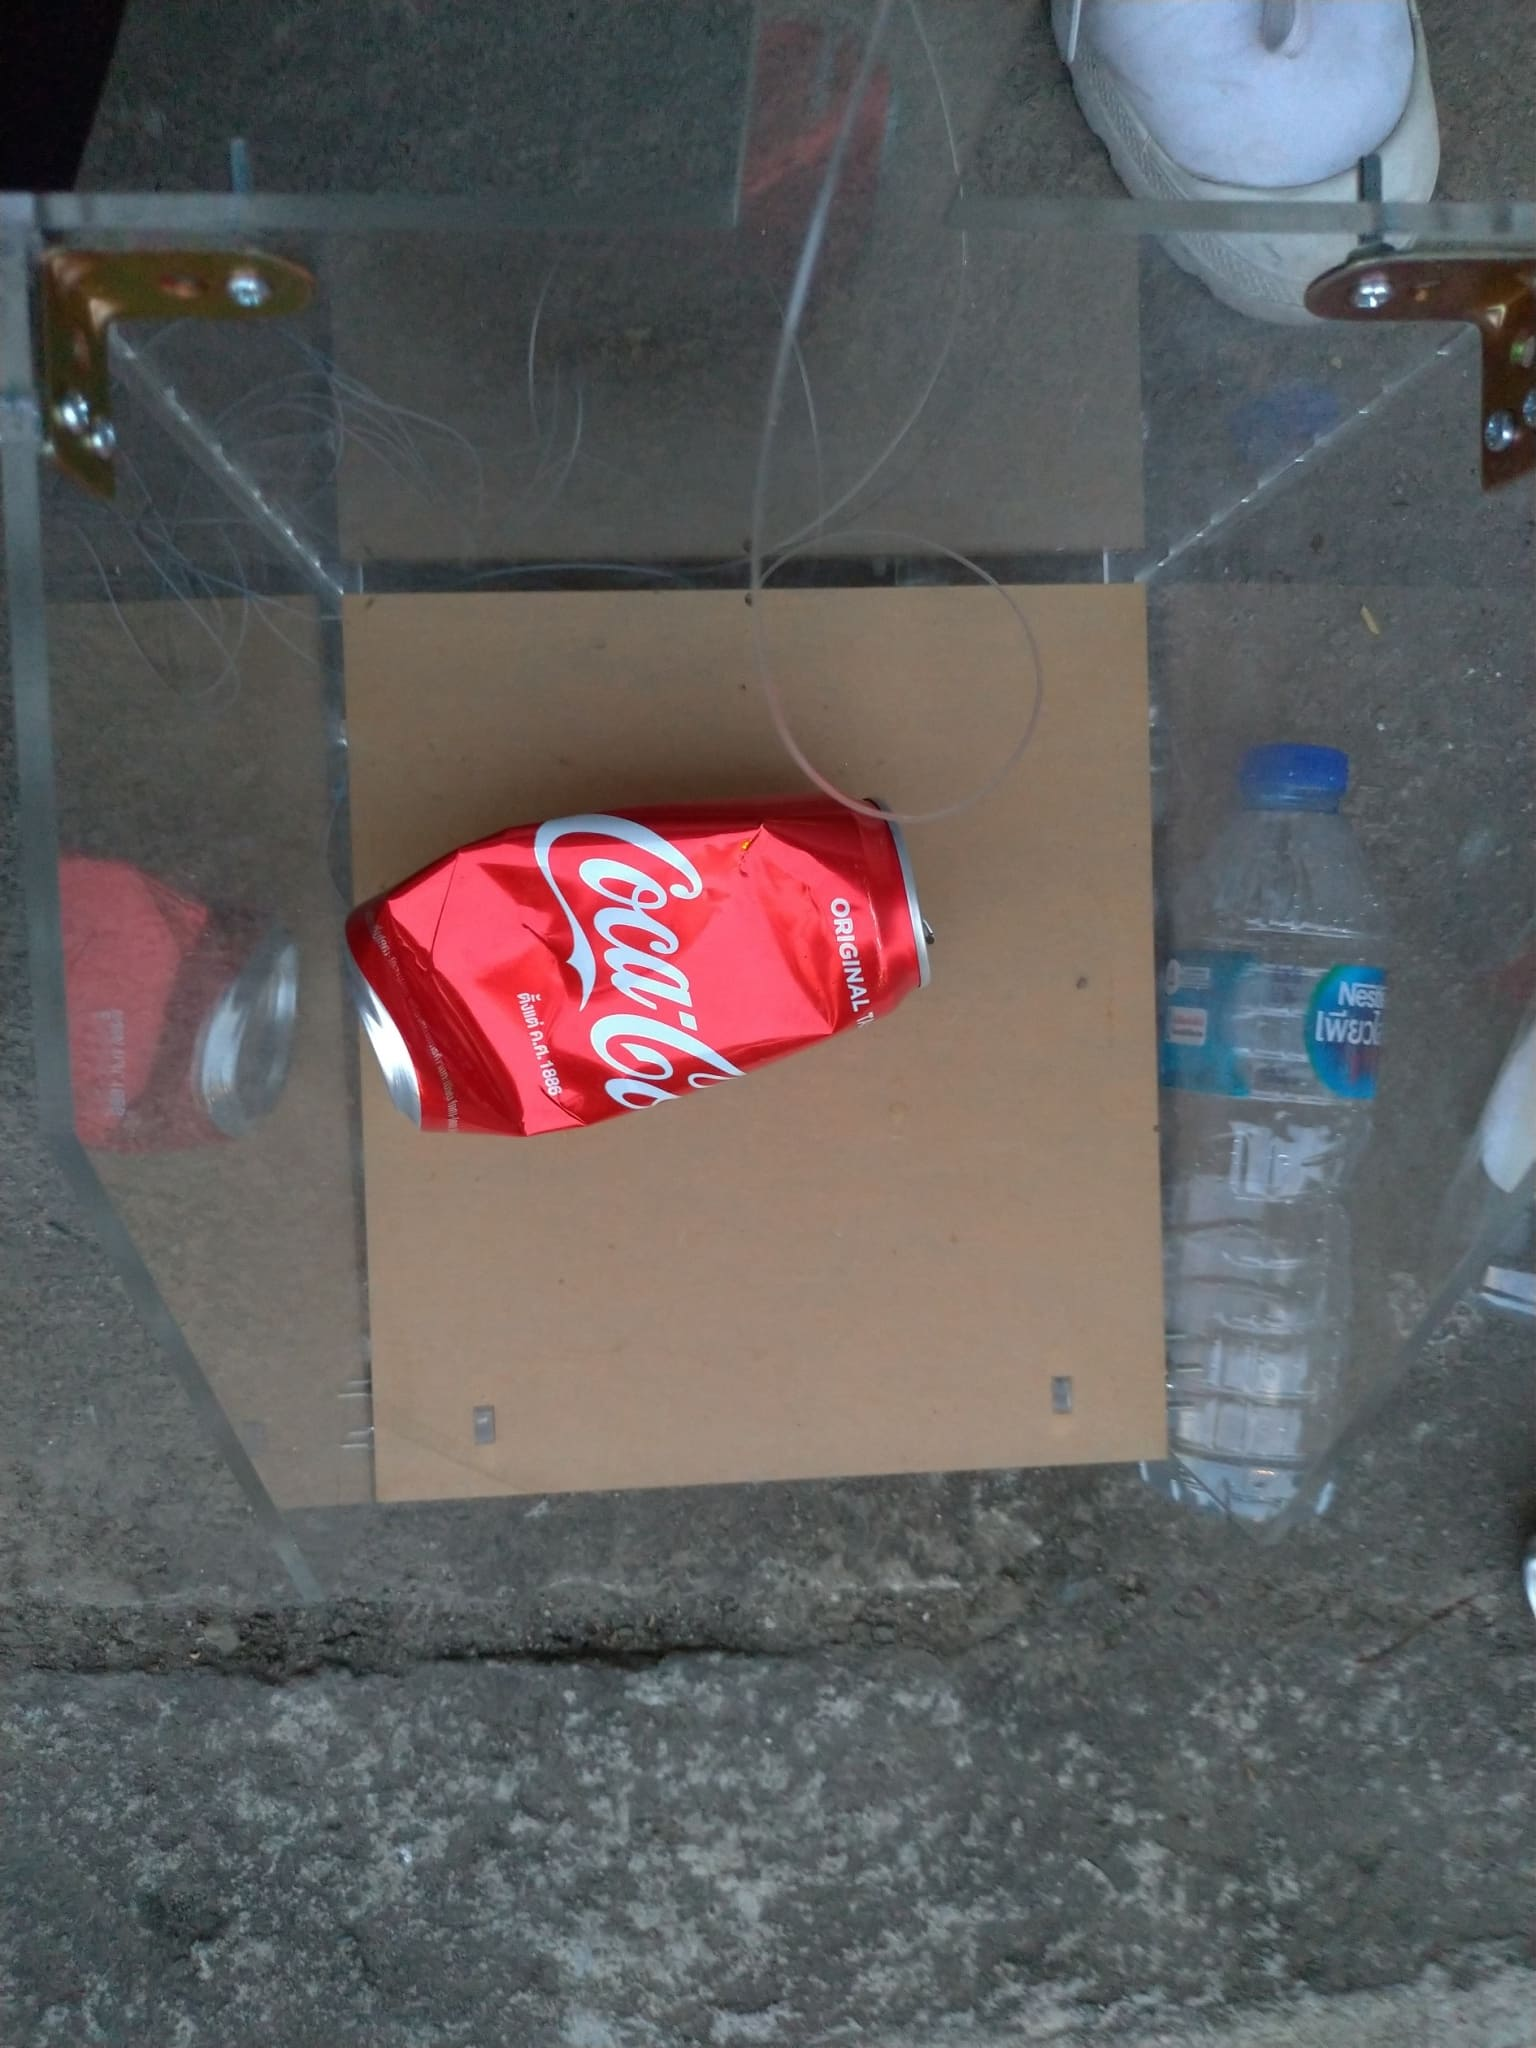AlCan: (353, 800, 945, 1138)
PlasticBottle: (1137, 745, 1388, 1529)
